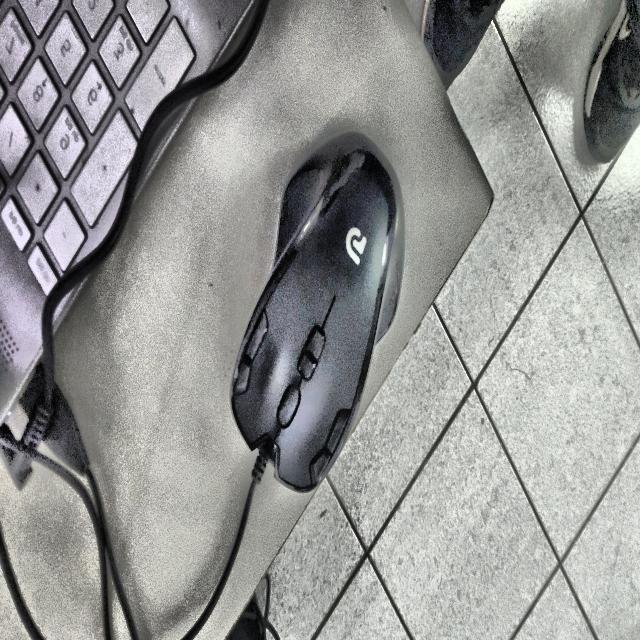laptop: (0, 0, 252, 420)
